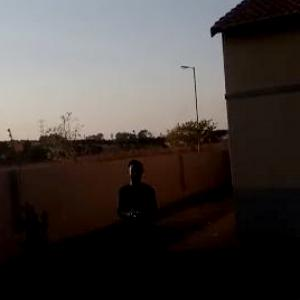follow: (114, 157, 166, 299)
